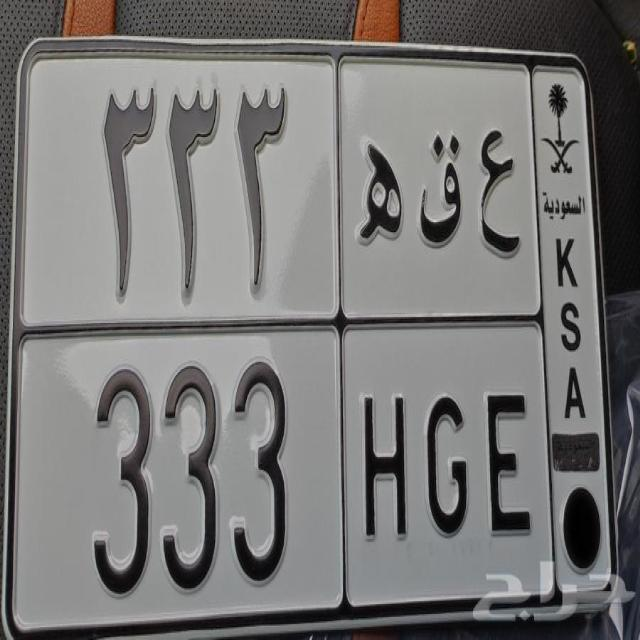license_plate: (9, 316, 557, 632)
